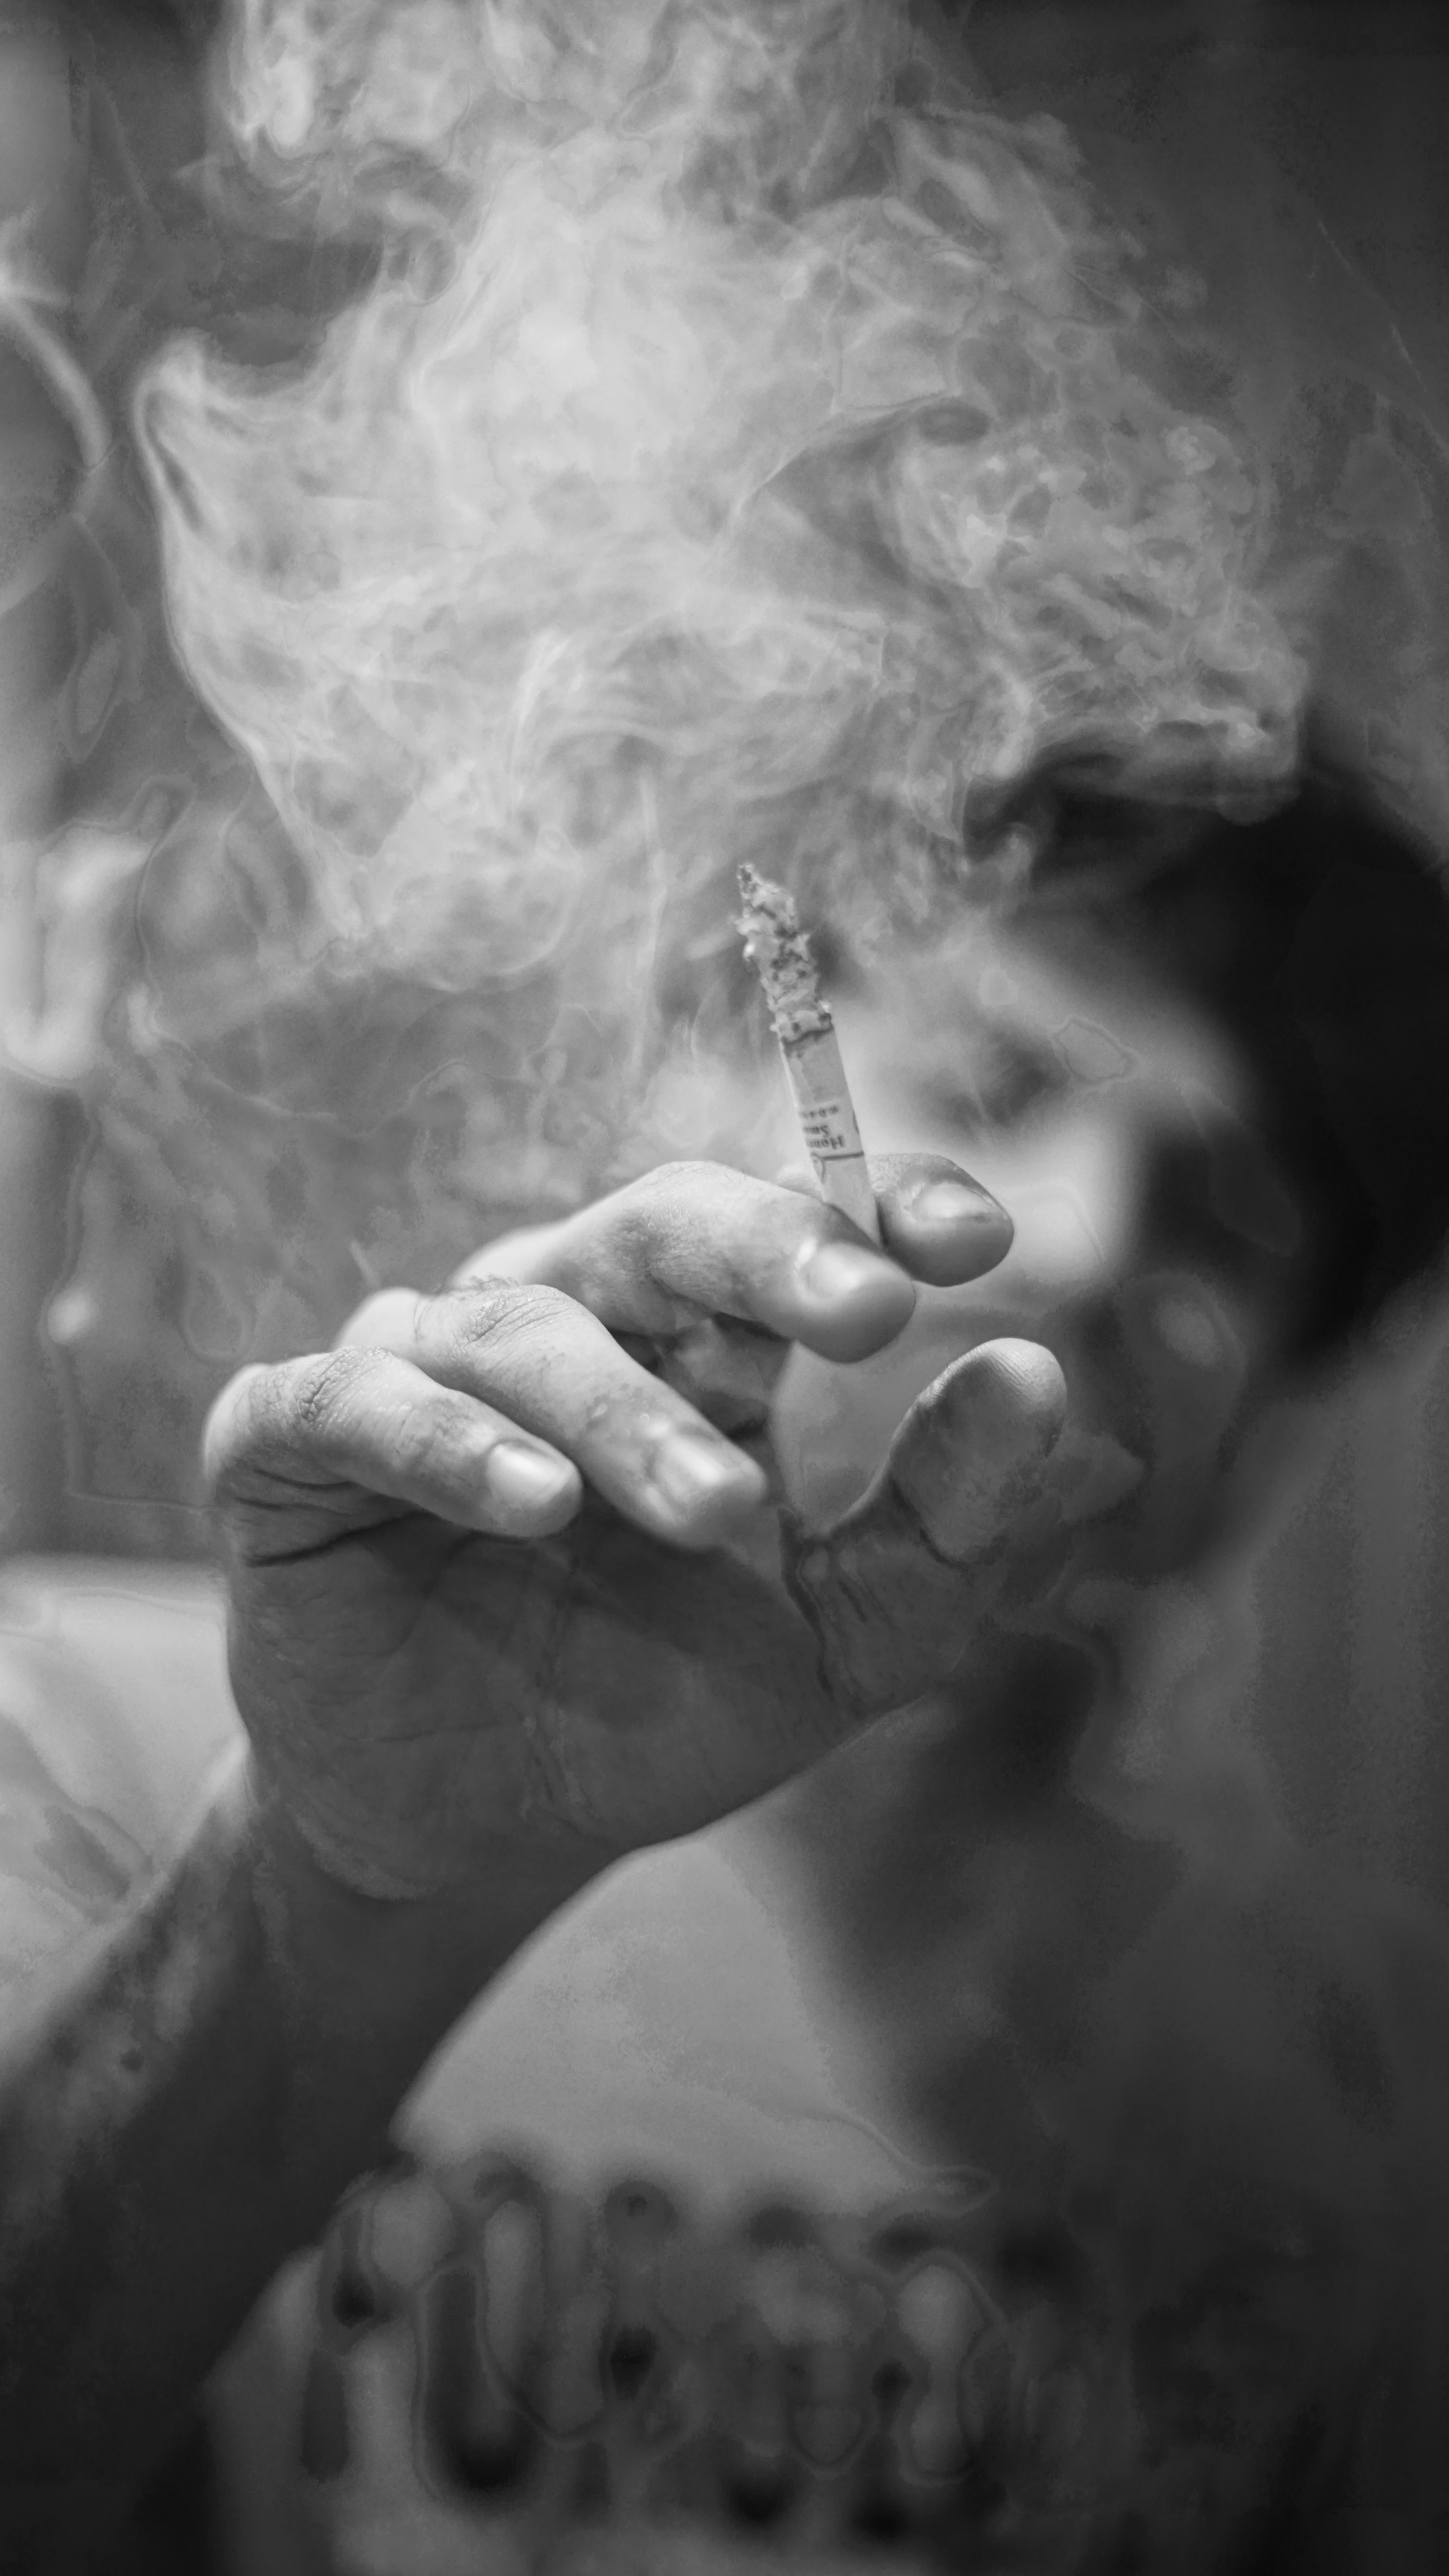cigarette: (722, 849, 890, 1258)
